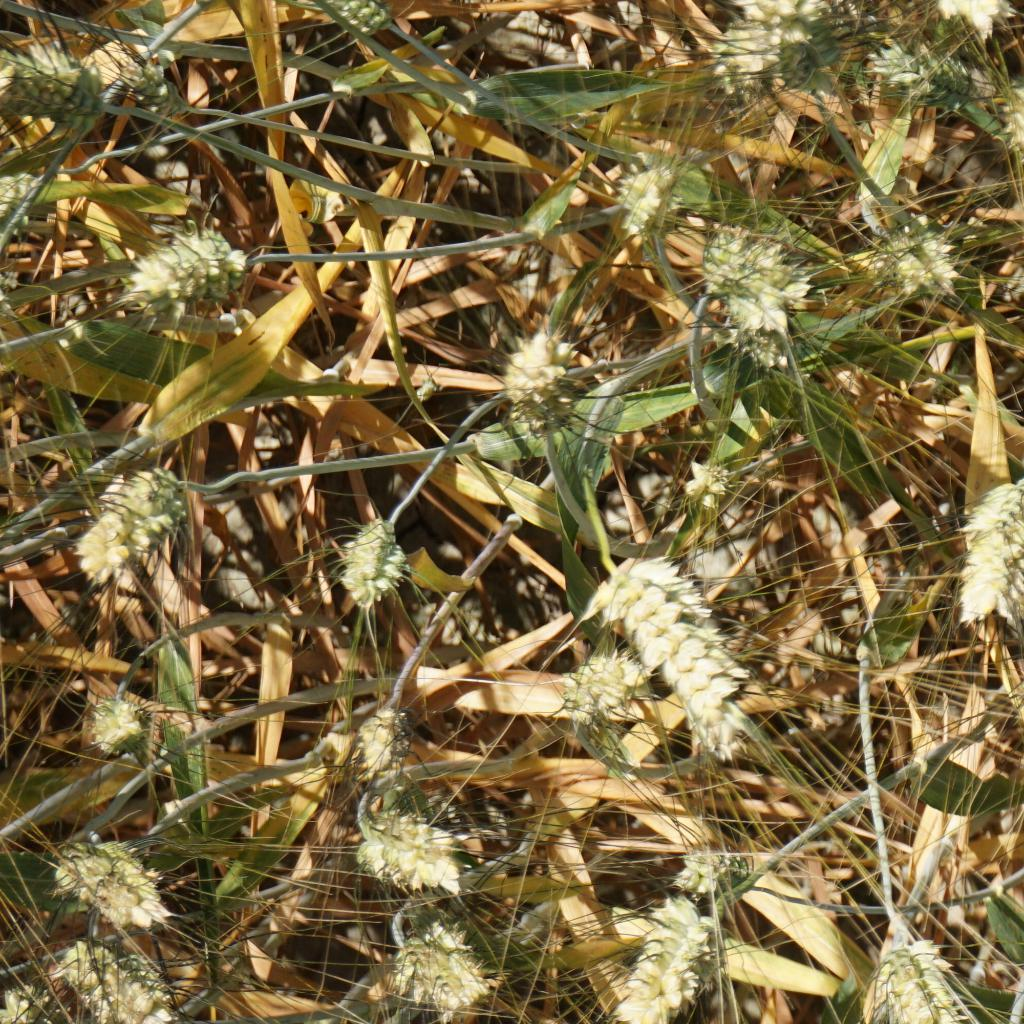0-0: (612, 571, 747, 703), (943, 438, 1024, 653), (702, 211, 830, 342), (706, 0, 852, 110), (107, 209, 254, 314), (621, 888, 721, 1024), (45, 826, 177, 922), (77, 472, 186, 587), (476, 318, 593, 425), (348, 811, 486, 899), (363, 934, 501, 1007), (868, 39, 988, 122), (868, 214, 975, 301), (254, 0, 433, 51), (868, 936, 961, 1024), (600, 141, 685, 237), (0, 50, 108, 123), (331, 521, 412, 610), (563, 656, 640, 733), (114, 959, 203, 1024), (349, 695, 415, 781), (105, 55, 192, 115), (673, 840, 763, 897), (86, 683, 142, 764), (64, 948, 128, 1017), (674, 457, 741, 513), (858, 0, 1009, 24), (730, 331, 802, 376), (808, 0, 898, 31), (994, 94, 1024, 166)
